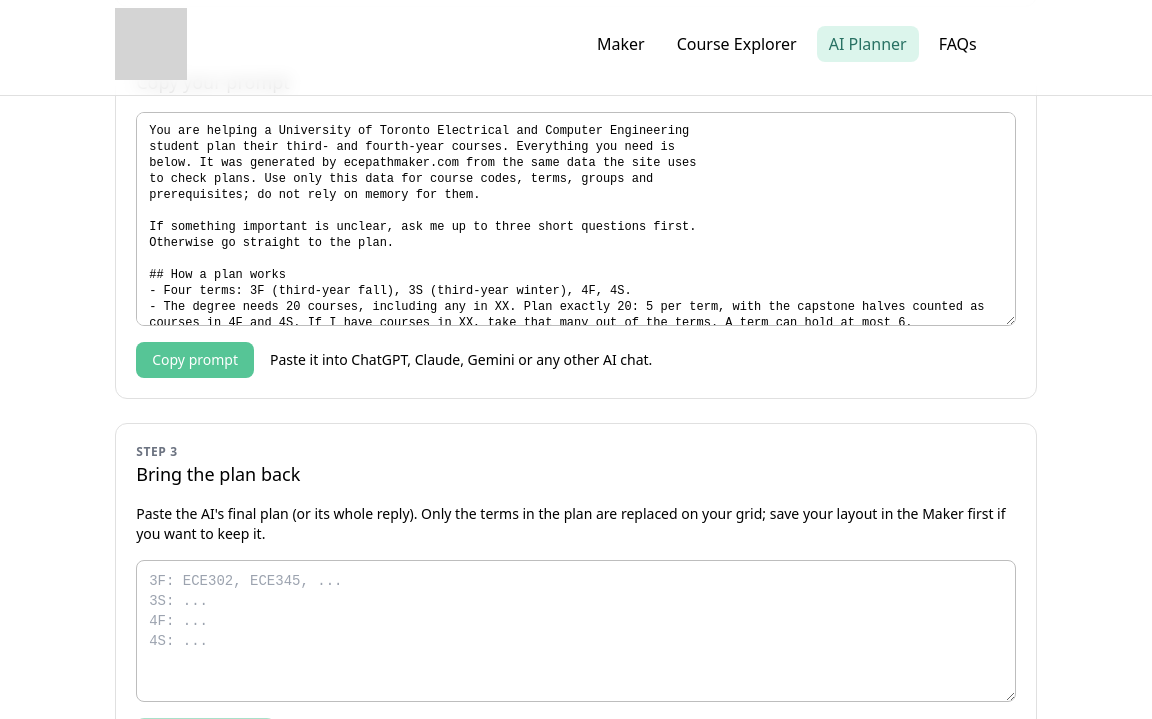
Test case: Planner page › copies the prompt
The width and height of the screenshot is (1152, 719).
(page scrolled)
Step 1. Click the button with test id "copy-prompt" → (195, 360), box [136,342,254,378]
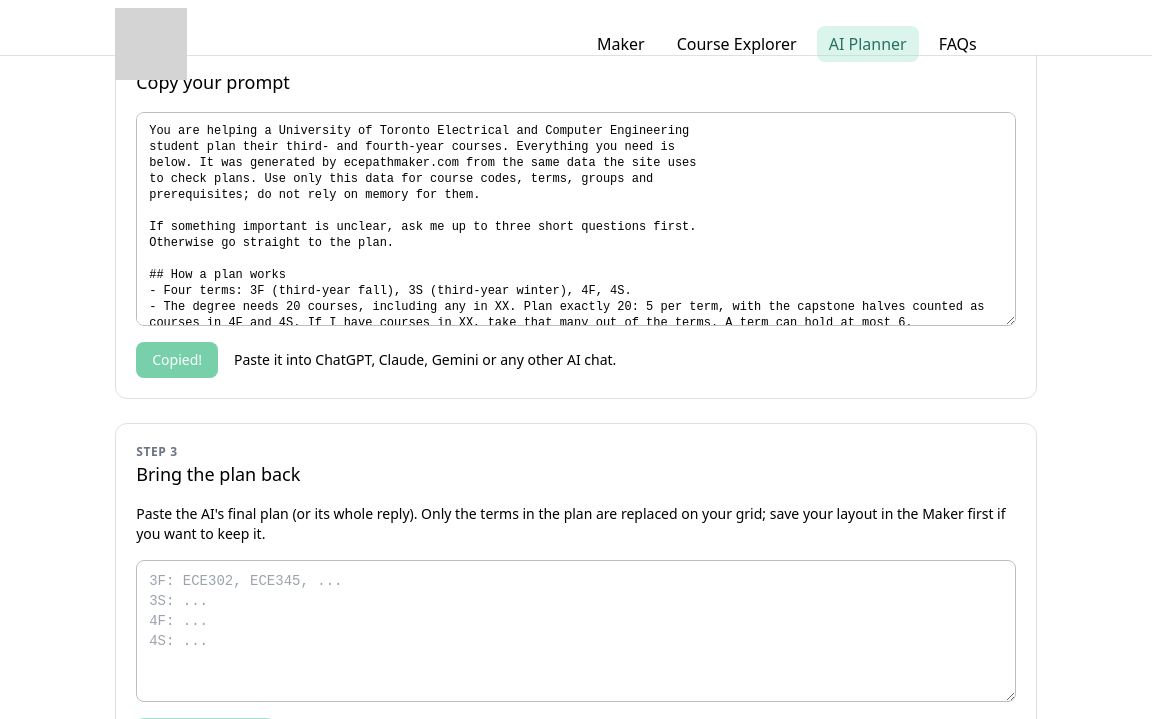
Result: the button "Copied!" is shown at [136,342,218,378]
